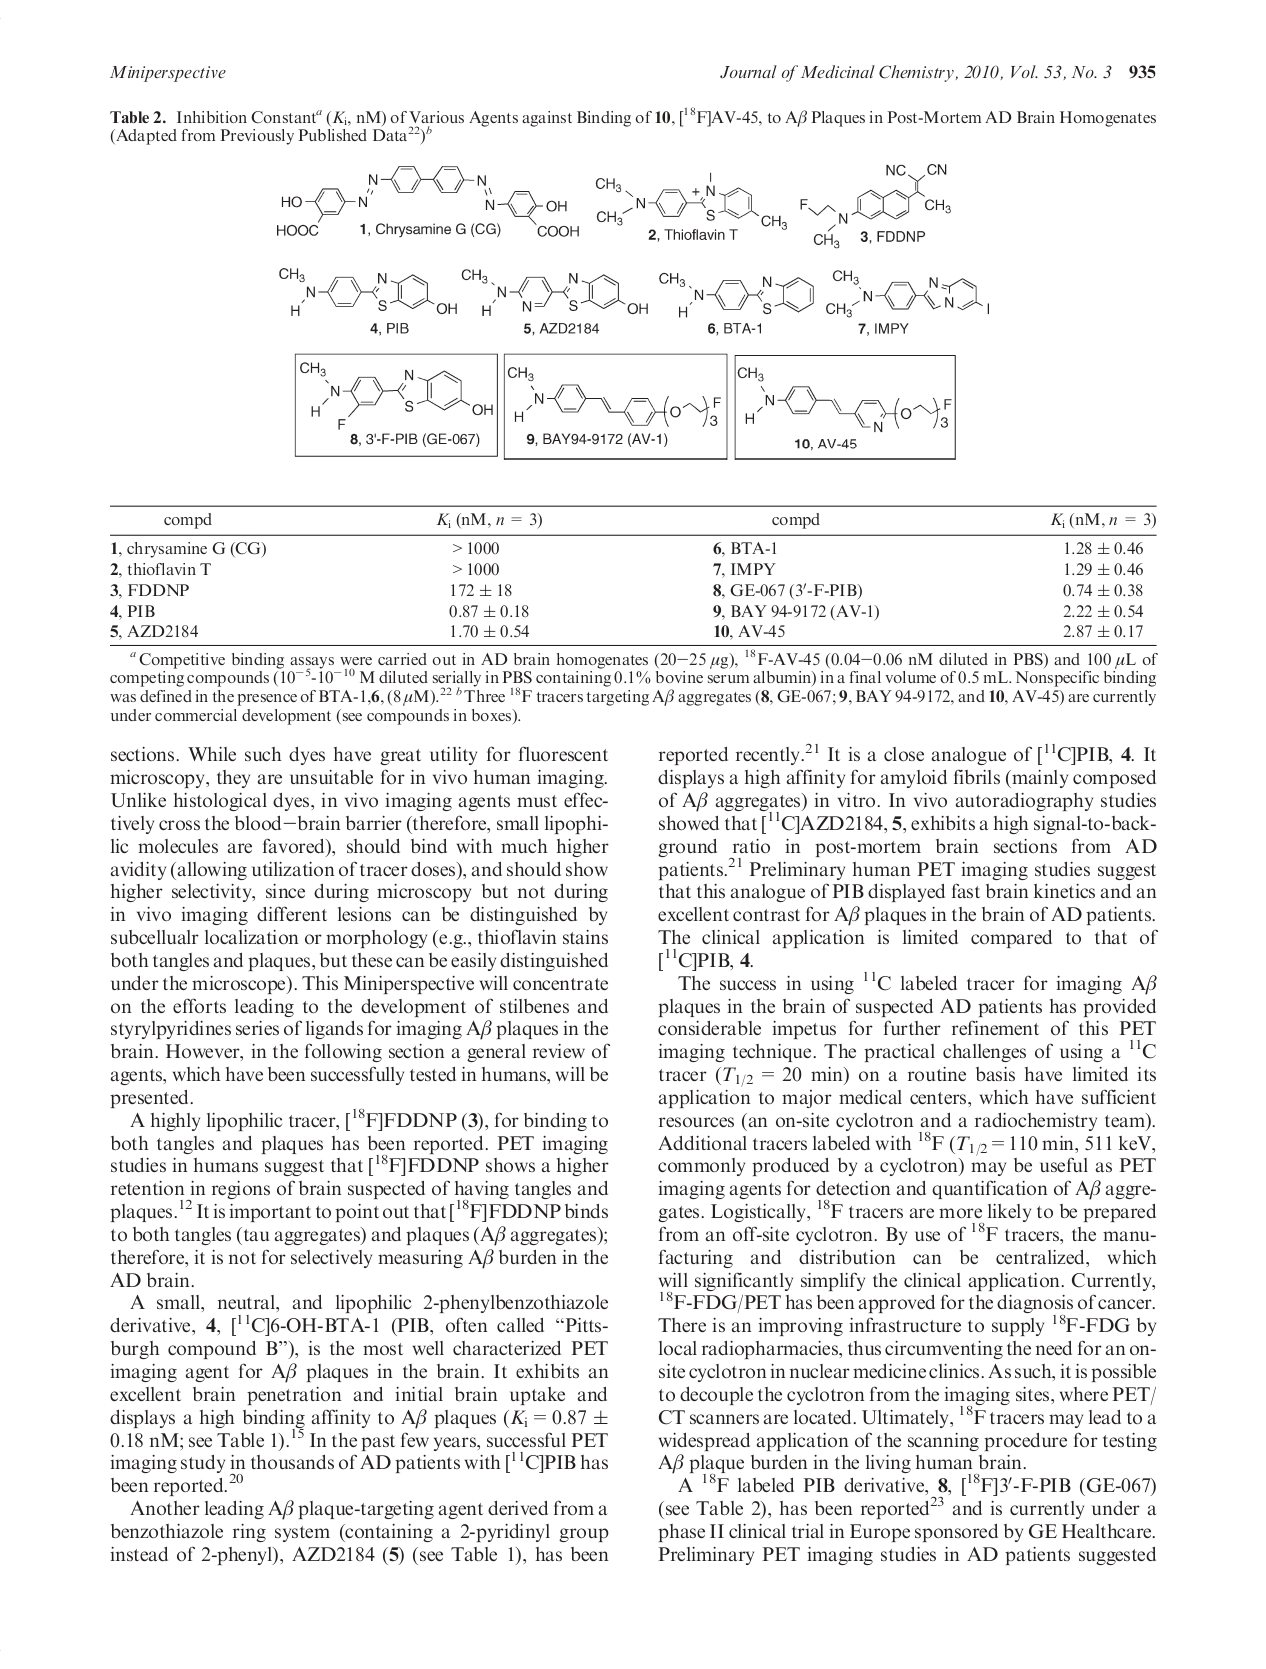exist_molecular: (275, 164, 582, 239), (735, 366, 952, 434), (298, 360, 496, 431), (505, 364, 723, 428), (798, 162, 952, 247), (592, 176, 789, 231), (459, 267, 650, 317), (277, 265, 457, 317), (824, 269, 992, 321), (656, 269, 817, 318)
